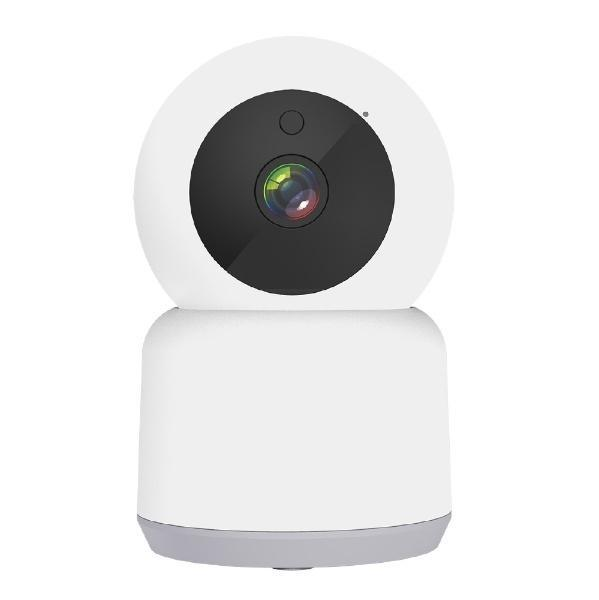maru: (132, 32, 453, 567)
